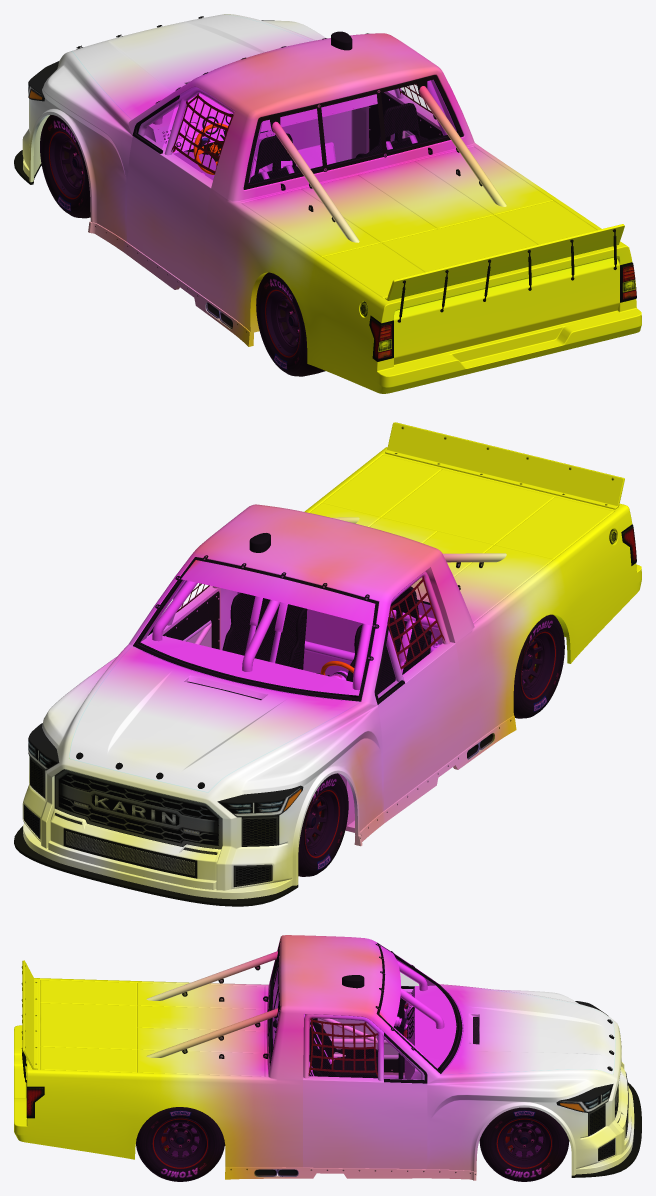
Rendered from everon2.glb.
The picture shows the model from 3 angles, top to bottom: view 1: azimuth 30°, elevation 25°; view 2: azimuth 150°, elevation 25°; view 3: azimuth 270°, elevation 25°; orthographic projection. The views are drawn at different scales.
Visible parts, largest first — view 1: bodyshell, chassis, door_dside_f, bonnet, windscreen_r, misc_e, wheel_lr, wheel_lf, door_pside_f, misc_a, steeringwheel; view 2: bodyshell, bonnet, chassis, door_dside_f, misc_e, wheel_lr, wheel_lf, door_pside_f, misc_a; view 3: bodyshell, door_pside_f, bonnet, chassis, wheel_rr, wheel_rf, door_dside_f, misc_e, misc_b, engineblock.
Part boxes in pixels (bbox=[...]): bodyshell: bbox=[14, 14, 641, 393]; chassis: bbox=[30, 31, 458, 346]; door_dside_f: bbox=[126, 87, 234, 296]; bonnet: bbox=[71, 14, 311, 119]; windscreen_r: bbox=[249, 80, 457, 183]; misc_e: bbox=[385, 224, 624, 322]; wheel_lr: bbox=[256, 272, 325, 376]; wheel_lf: bbox=[40, 115, 90, 218]; door_pside_f: bbox=[368, 84, 443, 152]; misc_a: bbox=[137, 101, 175, 149]; steeringwheel: bbox=[193, 123, 228, 174]; bodyshell: bbox=[14, 447, 641, 906]; bonnet: bbox=[69, 646, 359, 792]; chassis: bbox=[137, 529, 617, 846]; door_dside_f: bbox=[374, 571, 462, 810]; misc_e: bbox=[385, 422, 624, 509]; wheel_lr: bbox=[513, 614, 564, 718]; wheel_lf: bbox=[298, 773, 348, 876]; door_pside_f: bbox=[145, 580, 220, 649]; misc_a: bbox=[377, 634, 402, 698]; bodyshell: bbox=[14, 935, 641, 1180]; door_pside_f: bbox=[303, 1014, 427, 1169]; bonnet: bbox=[442, 985, 615, 1074]; chassis: bbox=[135, 945, 460, 1177]; wheel_rr: bbox=[136, 1107, 224, 1181]; wheel_rf: bbox=[479, 1107, 569, 1181]; door_dside_f: bbox=[313, 986, 414, 1075]; misc_e: bbox=[21, 960, 37, 1082]; misc_b: bbox=[384, 1037, 423, 1079]; engineblock: bbox=[254, 1017, 479, 1176].
Size of the model in its own units: 2.07 by 1.59 by 5.19.
26 materials, 21 textured.
